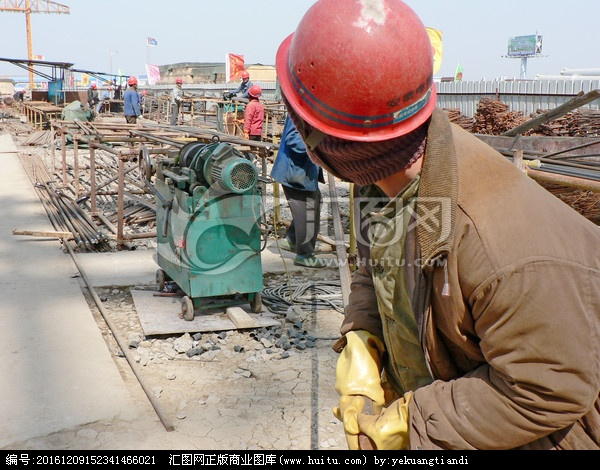red: (277, 1, 431, 190), (246, 84, 263, 102), (127, 75, 138, 89), (240, 71, 249, 83), (175, 77, 183, 86)
